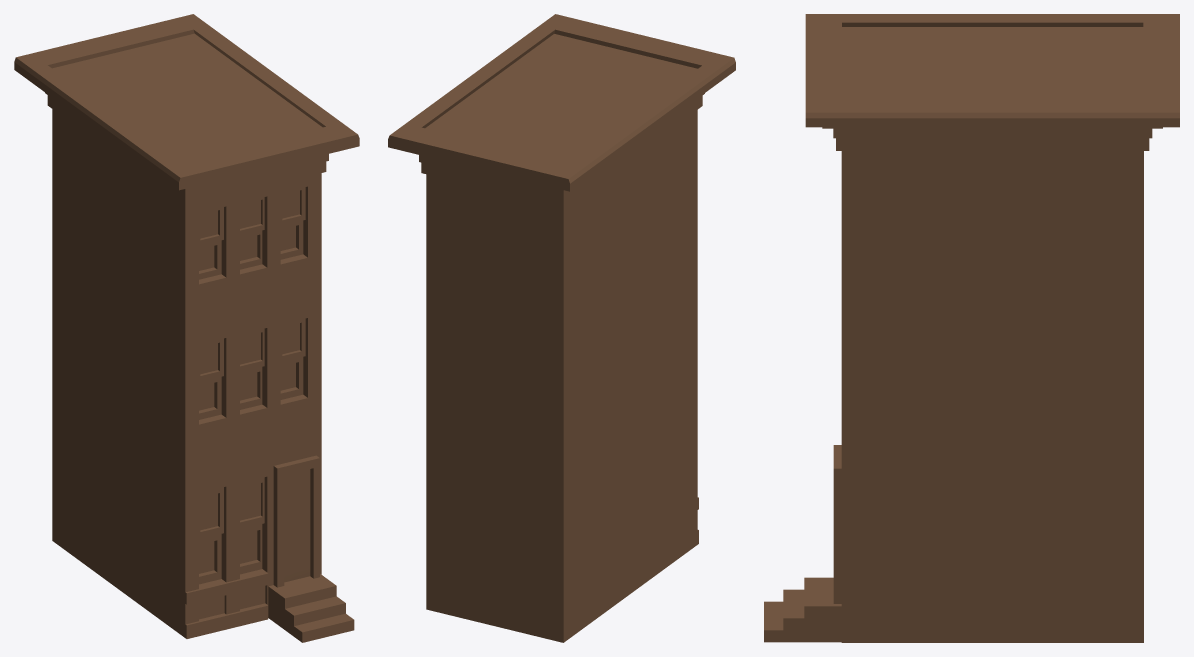
The model's file is building1.fbx.
3 views of the same model, side by side, from view 1: azimuth 30°, elevation 25°; view 2: azimuth 150°, elevation 25°; view 3: azimuth 270°, elevation 25° (orthographic). The views are drawn at different scales.
Visible parts, largest first — view 1: pCube3; view 2: pCube3; view 3: pCube3.
Part boxes in pixels (x1,y1,x2,y2): pCube3: (14,14,359,642); pCube3: (388,14,735,642); pCube3: (764,14,1179,642).
Size of the model in its own units: 5.97 by 15.07 by 10.47.
